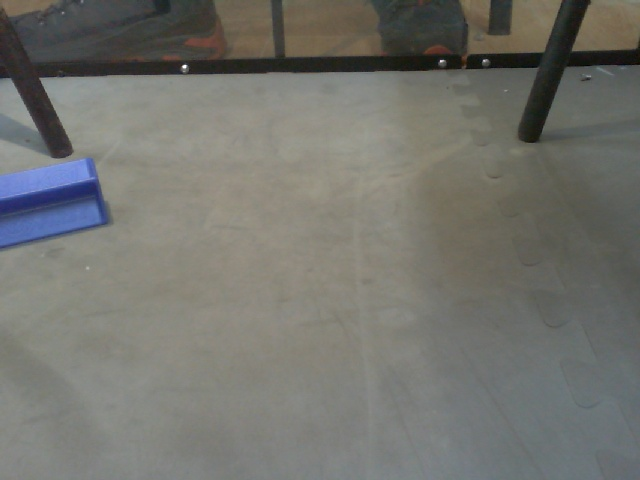BlueSample: (1, 158, 110, 250)
